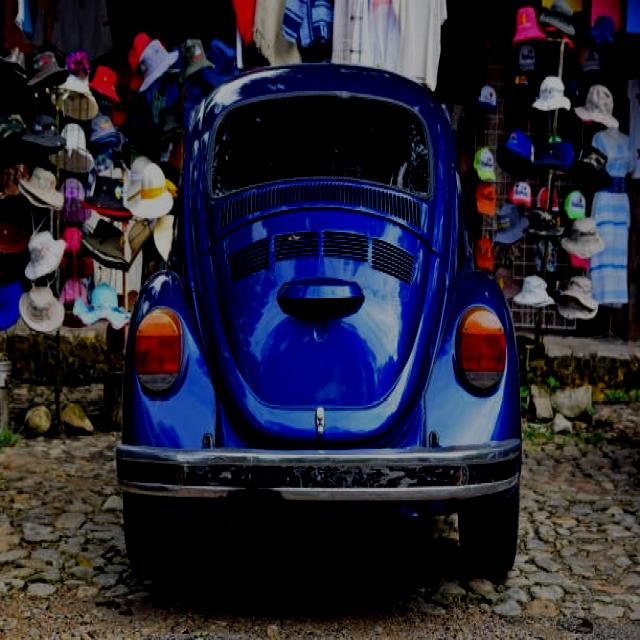car: (125, 80, 531, 569)
